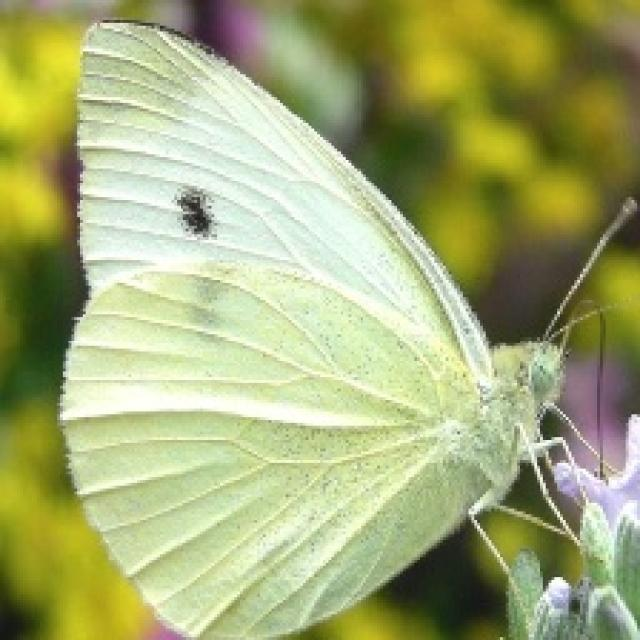butterfly: (54, 14, 637, 637)
